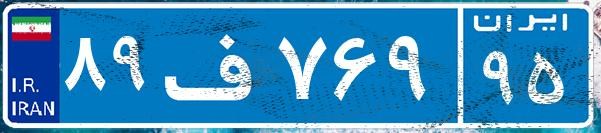5: (525, 38, 570, 115)
6: (330, 28, 385, 110)
7: (273, 28, 330, 110)
8: (57, 26, 110, 107)
9: (385, 28, 445, 110), (475, 38, 525, 113), (110, 28, 158, 105)
ف: (158, 15, 273, 115)
